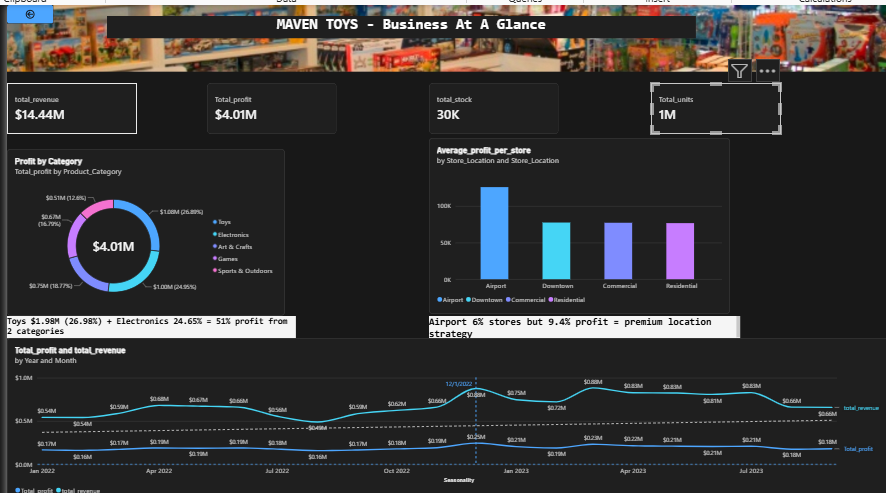

Layout of this report page (visuals, bound fields, positions):
{"tool":"powerbi","page":{"name":"Executive overview","canvas":[1920,1080],"ordinal":0},"visuals":[{"type":"image","box":[0,0,1920,144],"z":0},{"type":"cardVisual","fields":{"Data":["maven_toys toy_sales.total_revenue"]},"box":[0,168,280,110],"z":1000},{"type":"cardVisual","fields":{"Data":["maven_toys toy_inventory.total_stock"]},"box":[912,168,280,110],"z":2000},{"type":"cardVisual","fields":{"Data":["maven_toys toy_sales.Total_units"]},"box":[1392,168,280,110],"z":3000},{"type":"cardVisual","fields":{"Data":["maven_toys toy_sales.Total_profit"]},"box":[432,168,280,110],"z":4000},{"type":"donutChart","title":"Profit by Category","fields":{"Category":["maven_toys toy_products.Product_Category"],"Y":["maven_toys toy_sales.Total_profit"]},"box":[0,312,600,360],"z":5000},{"type":"columnChart","fields":{"Category":["maven_toys toy_stores.Store_Location"],"Series":["maven_toys toy_stores.Store_Location"],"Y":["maven_toys toy_sales.Average_profit_per_store"]},"box":[912,288,650,380],"z":6000},{"type":"textbox","box":[216,24,1272,48],"z":7000},{"type":"textbox","box":[0,672,624,48],"z":8000},{"type":"textbox","box":[912,672,672,48],"z":9000},{"type":"lineChart","fields":{"Category":["maven_toys toy_sales.Date.Variation.Date Hierarchy.Year","maven_toys toy_sales.Date.Variation.Date Hierarchy.Month"],"Y":["maven_toys toy_sales.Total_profit","maven_toys toy_sales.total_revenue"]},"box":[0,720,1920,360],"z":10000},{"type":"actionButton","box":[0,0,100,40],"z":10001}]}

Visuals, with their boxes in screenshot pixels (x1, y1, x2, y2):
image: (x1=2, y1=0, x2=885, y2=67)
cardVisual - maven_toys toy_sales.total_revenue: (x1=2, y1=79, x2=133, y2=130)
cardVisual - maven_toys toy_inventory.total_stock: (x1=429, y1=79, x2=559, y2=130)
cardVisual - maven_toys toy_sales.Total_units: (x1=653, y1=79, x2=784, y2=130)
cardVisual - maven_toys toy_sales.Total_profit: (x1=204, y1=79, x2=335, y2=130)
"Profit by Category" donutChart: (x1=2, y1=146, x2=283, y2=314)
columnChart - maven_toys toy_stores.Store_Location x maven_toys toy_stores.Store_Location: (x1=429, y1=135, x2=732, y2=312)
textbox: (x1=103, y1=11, x2=698, y2=34)
textbox: (x1=2, y1=314, x2=294, y2=337)
textbox: (x1=429, y1=314, x2=743, y2=337)
lineChart - maven_toys toy_sales.Date.Variation.Date Hierarchy.Year x maven_toys toy_sales.Date.Variation.Date Hierarchy.Month: (x1=2, y1=337, x2=885, y2=492)
actionButton: (x1=2, y1=0, x2=49, y2=19)
